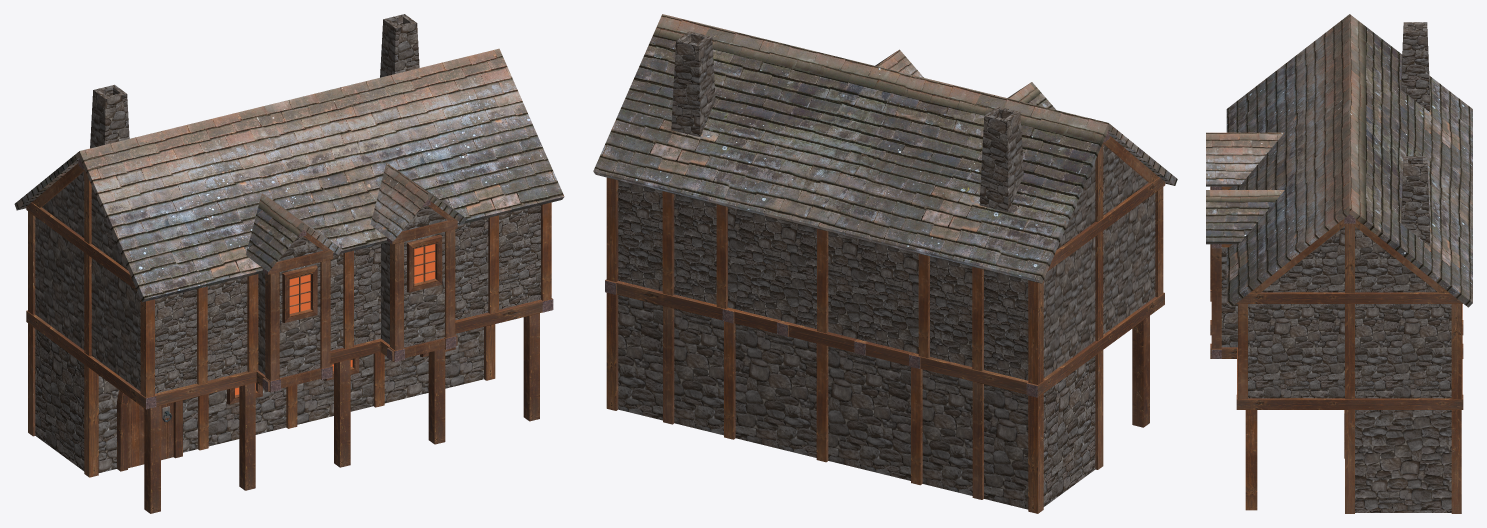
Rendered from medieval_house_low_poly.glb.
3 renders of one model, left to right at view 1: azimuth 30°, elevation 25°; view 2: azimuth 150°, elevation 25°; view 3: azimuth 270°, elevation 25°, orthographic. The views are drawn at different scales.
Parts seen in each view (by area): view 1: Cube.005_5, Cube.001_1, Cube_0, Cube.002_2, Cube.004_3, Cube.008_7, Cube.003_4, Cube.011_12, Cube.009_8, Cube.024_24, Cube.017_14, Cube.006_6 (+11 smaller); view 2: Cube.005_5, Cube.001_1, Cube_0, Cube.003_4, Cube.011_12, Cube.017_14, Cube.033_33, Cube.032_32, Cube.024_24, Cube.019_16, Cube.018_15, Cube.010_11 (+6 smaller); view 3: Cube.005_5, Cube.001_1, Cube_0, Cube.008_7, Cube.003_4, Cube.011_12, Cube.010_11, Cube.024_24, Cube.016_13, Cube.014_21, Cube.002_2, Cube.025_25 (+1 smaller).
Boxes of the visible parts, bbox=[...] form: Cube.005_5: bbox=[14, 48, 564, 302]; Cube.001_1: bbox=[35, 171, 540, 393]; Cube_0: bbox=[35, 327, 483, 472]; Cube.002_2: bbox=[144, 313, 539, 513]; Cube.004_3: bbox=[258, 206, 447, 377]; Cube.008_7: bbox=[246, 163, 466, 271]; Cube.003_4: bbox=[90, 14, 419, 148]; Cube.011_12: bbox=[28, 202, 551, 436]; Cube.009_8: bbox=[282, 234, 442, 322]; Cube.024_24: bbox=[84, 170, 495, 477]; Cube.017_14: bbox=[155, 299, 549, 406]; Cube.006_6: bbox=[117, 390, 182, 471]; Cube.005_5: bbox=[593, 14, 1177, 283]; Cube.001_1: bbox=[618, 144, 1155, 380]; Cube_0: bbox=[618, 295, 1095, 509]; Cube.003_4: bbox=[671, 31, 1023, 212]; Cube.011_12: bbox=[606, 177, 1163, 513]; Cube.017_14: bbox=[609, 280, 1028, 394]; Cube.033_33: bbox=[663, 306, 983, 499]; Cube.032_32: bbox=[724, 321, 922, 485]; Cube.024_24: bbox=[1095, 143, 1103, 469]; Cube.019_16: bbox=[662, 191, 983, 371]; Cube.018_15: bbox=[716, 204, 929, 358]; Cube.010_11: bbox=[605, 279, 1164, 397]; Cube.005_5: bbox=[1226, 14, 1472, 307]; Cube.001_1: bbox=[1248, 226, 1451, 398]; Cube_0: bbox=[1355, 410, 1451, 512]; Cube.008_7: bbox=[1206, 132, 1284, 244]; Cube.003_4: bbox=[1401, 22, 1430, 246]; Cube.011_12: bbox=[1238, 304, 1461, 513]; Cube.010_11: bbox=[1236, 395, 1463, 409]; Cube.024_24: bbox=[1345, 223, 1354, 513]; Cube.016_13: bbox=[1236, 292, 1462, 303]; Cube.014_21: bbox=[1250, 219, 1449, 293]; Cube.002_2: bbox=[1245, 410, 1257, 510]; Cube.025_25: bbox=[1211, 248, 1221, 348].
Size of the model in its own units: 7.64 by 5.99 by 4.44.
7 materials, 6 textured.
